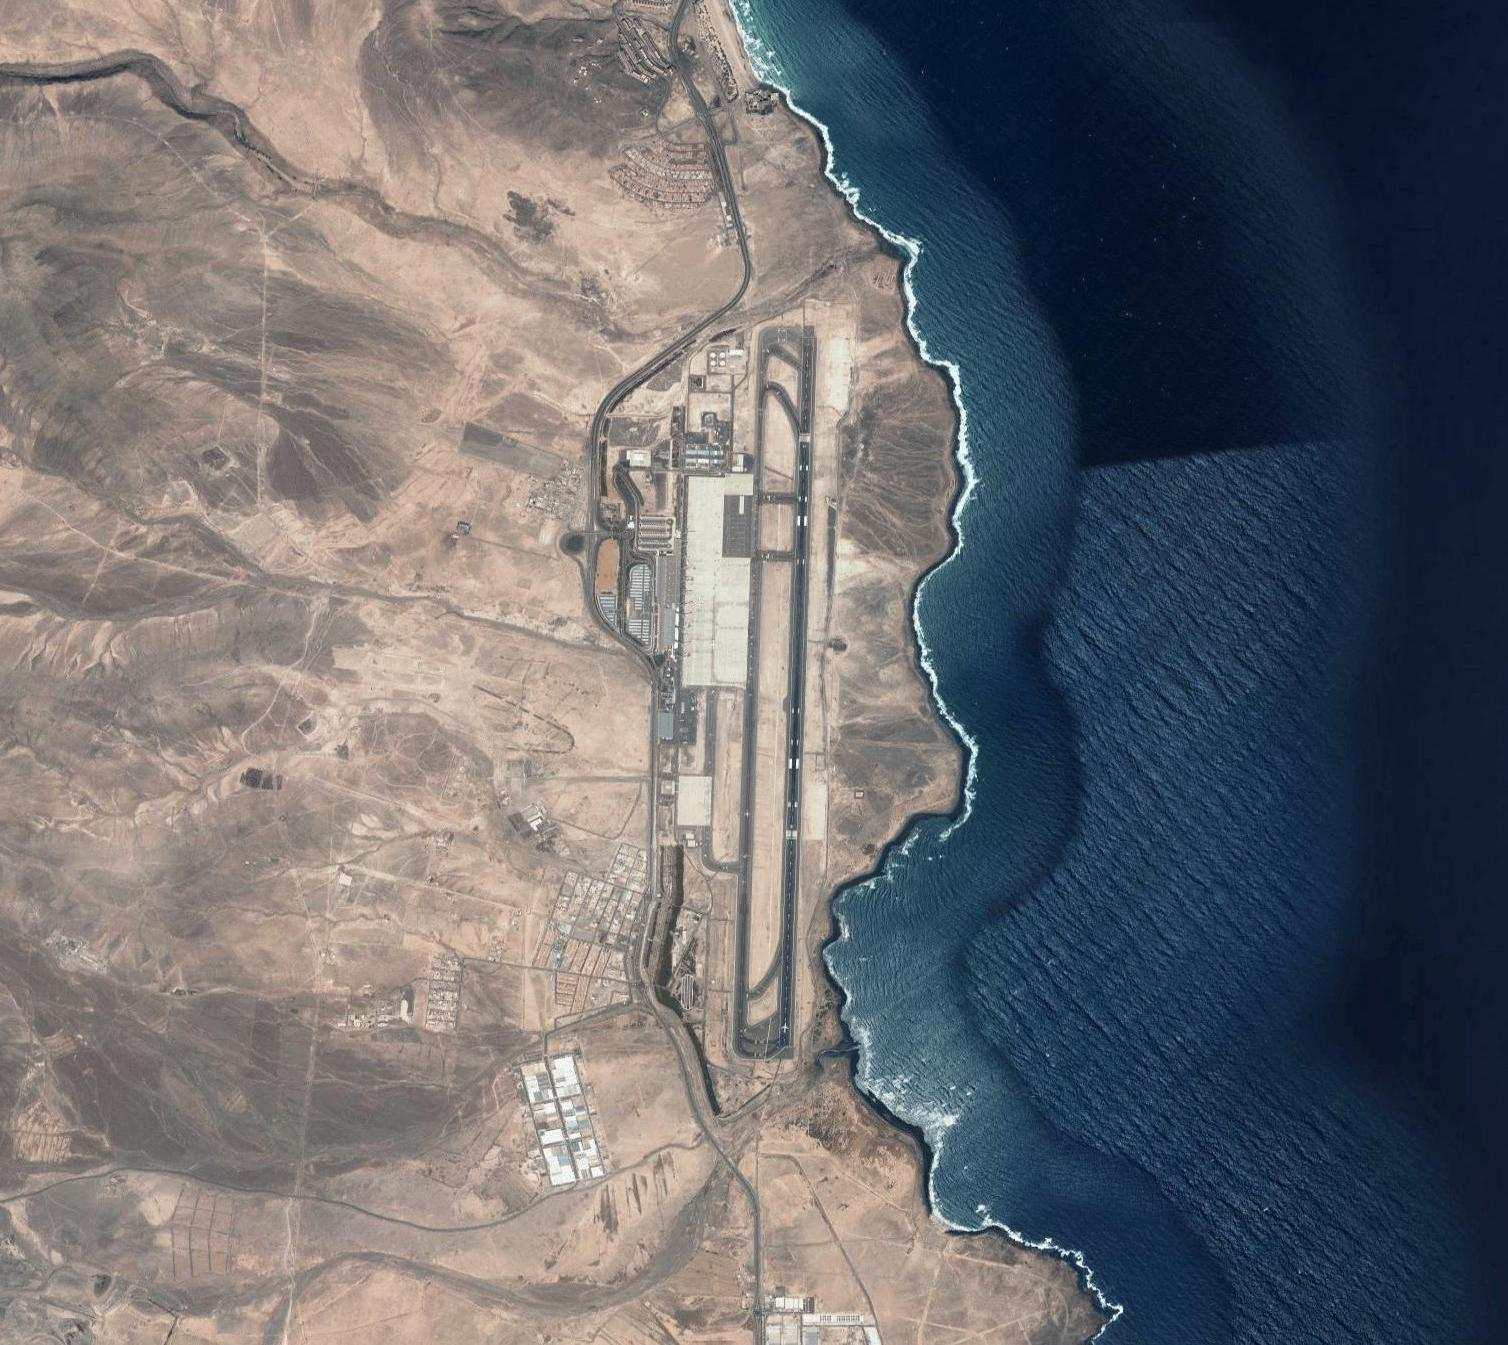airport: (680, 321, 823, 1068)
